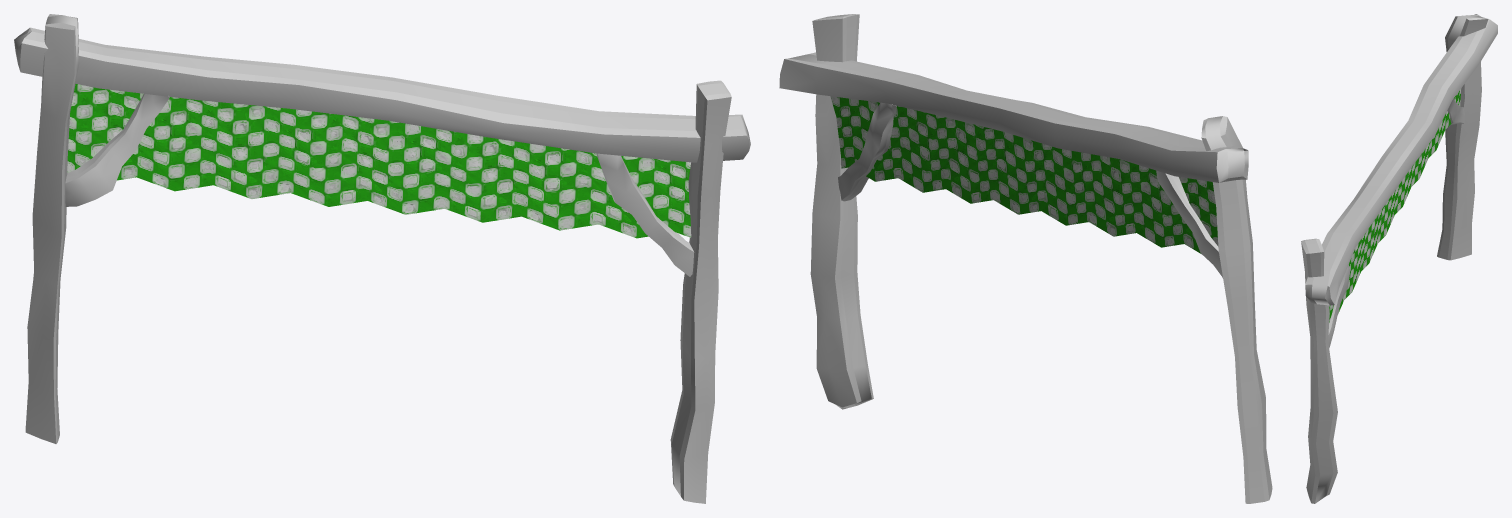
The model's file is Checkpoint.FBX.
The picture shows the model from 3 angles, left to right: view 1: azimuth 30°, elevation 25°; view 2: azimuth 150°, elevation 25°; view 3: azimuth 270°, elevation 25°; orthographic projection. The views are drawn at different scales.
Visible parts, largest first — view 1: Box037; view 2: Box037; view 3: Box037.
Boxes of the visible parts, x1,y1,x2,y2 form: Box037: (14,14,750,503); Box037: (779,14,1272,503); Box037: (1301,14,1497,503).
Bounding box in the file's own units: 399 × 321 × 174.
